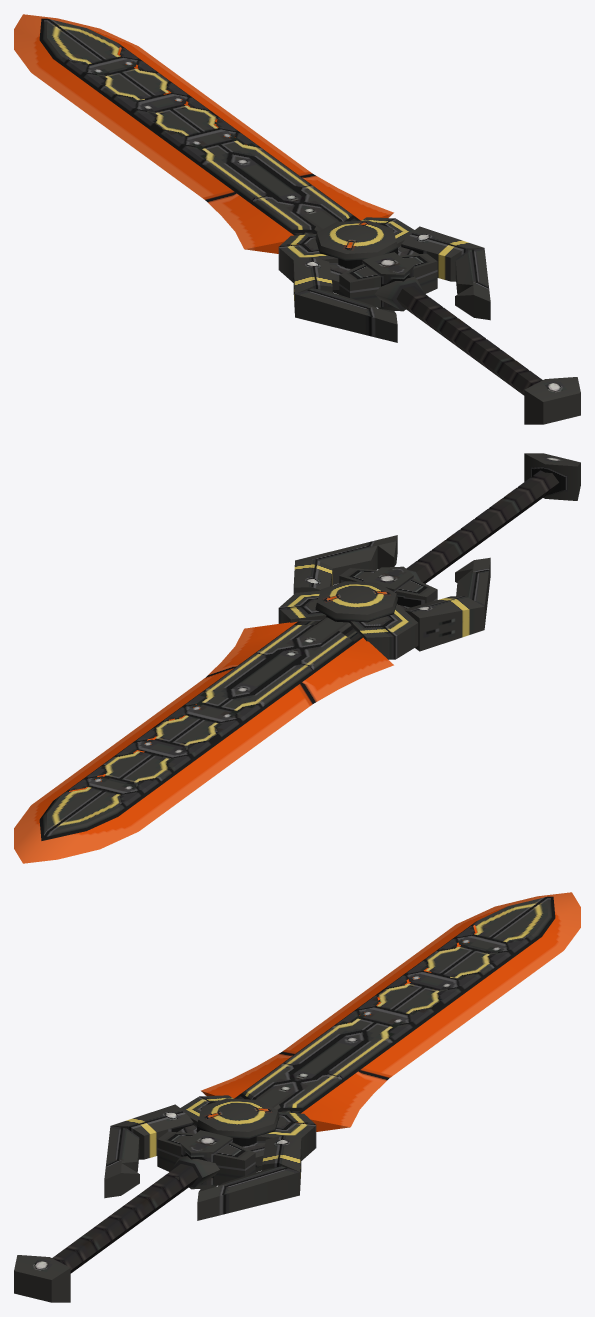
Rendered from sword_l_luna_sword_luna_sword1fire.glb.
3 renders of one model, top to bottom at view 1: azimuth 30°, elevation 25°; view 2: azimuth 150°, elevation 25°; view 3: azimuth 330°, elevation 25°, orthographic.
Bounding box in the file's own units: 0.4646 × 0.1348 × 2.29.
1 material, 1 textured.
